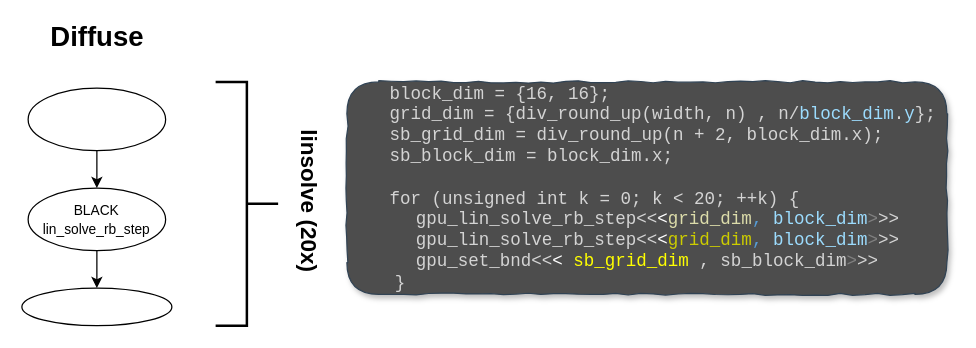
The diagram is 976 pixels wide and 348 high, and some of its shapes have lost their labels. Here are the shapes that lost their labels. From the top down, the centre of each, then its label:
At (96,119): "RED lin_solve_rb_step".
At (96,306): "set_bnd".
